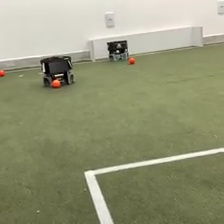ball: (51, 76, 62, 89), (128, 55, 136, 64), (1, 66, 6, 77)
goal: (87, 23, 204, 64)
robot: (38, 53, 75, 88), (105, 38, 131, 62)
